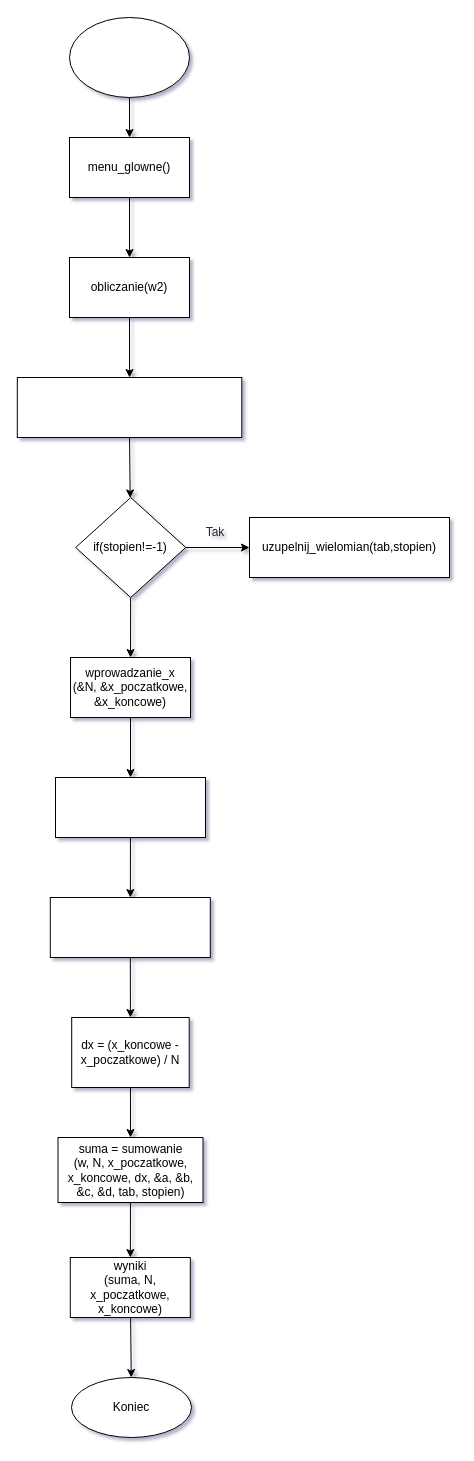
The diagram is 474 pixels wide and 1461 high, and some of its shapes have lost their labels. Here are the shapes that lost their labels. From the top down, the box of each, then its label:
(68, 16, 190, 98): Start
(16, 376, 242, 438): wprowadzanie_zmiennych_funkcyjnych ( w , & a , & b , & c , & d , & stopien )
(54, 776, 206, 838): sprawdzanie_dziedziny (w, &x_poczatkowe, &x_kocnowe, &b, &c, &d)
(49, 896, 210, 958): wpisanie_do_pliku_wzoru (w, a, b, c, d, stopien, tab)
